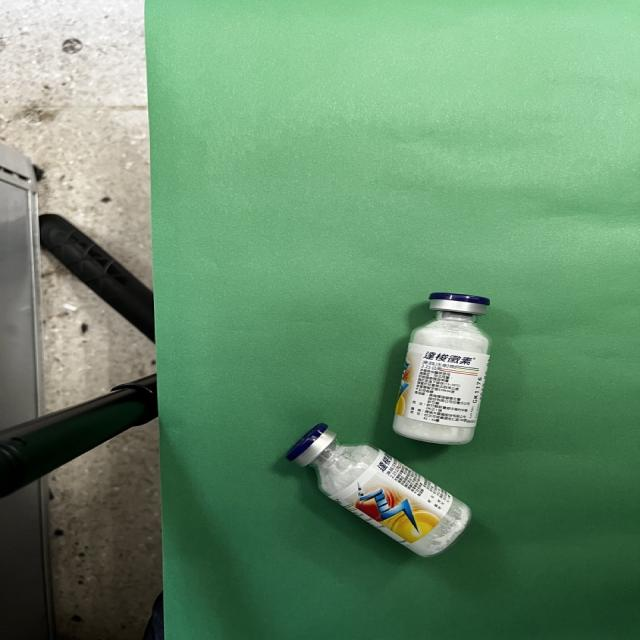Vials: (285, 424, 471, 556), (393, 292, 489, 444)
